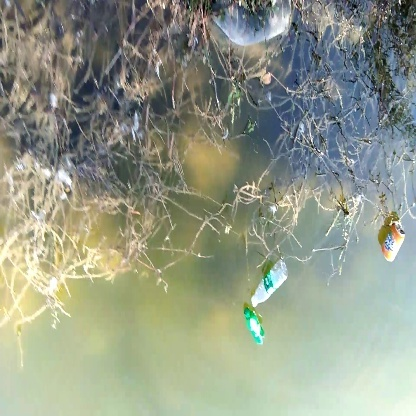bottle: (251, 257, 291, 311), (379, 224, 406, 264)
